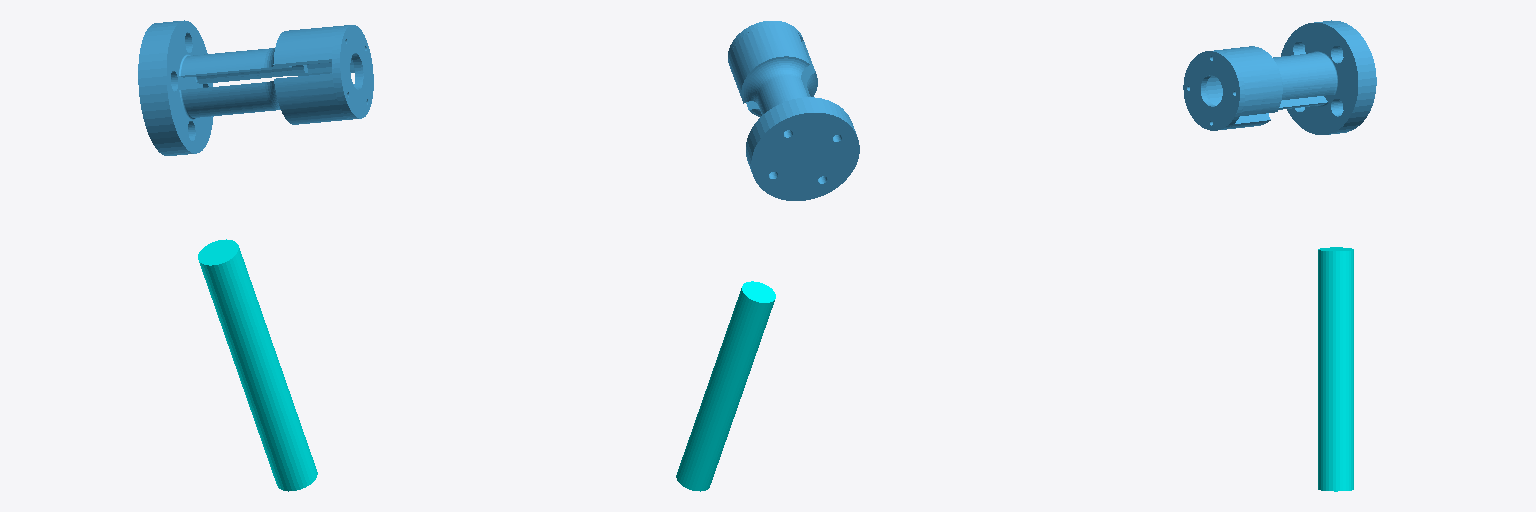
The robot description file, URDF, robot "panda":
<?xml version="1.0" ?>
<!-- =================================================================================== -->
<!-- |    This document was autogenerated by xacro from /opt/ros/kinetic/share/moveit_resources/panda_description/urdf/panda.urdf | -->
<!-- |    EDITING THIS FILE BY HAND IS NOT RECOMMENDED                                 | -->
<!-- =================================================================================== -->
<robot name="panda" xmlns:xacro="http://www.ros.org/wiki/xacro">
    <link name="base_link">
      </link>
    <joint name="base_joint" type="fixed">
        <origin rpy="0 0 0" xyz="0 0 0.0" />
        <parent link="base_link" />
        <child link="panda_link0" />
    </joint>
    <link name="panda_link0">
        <visual>
            <geometry>
                <mesh filename="meshes_cup/visual/link0.dae" />
            </geometry>
        </visual>
        <collision>
            <geometry>
                <mesh filename="meshes_cup/collision/link0.stl" />
            </geometry>
        </collision>
    </link>
    <link name="panda_link1">
        <visual>
            <geometry>
                <mesh filename="meshes_cup/visual/link1.dae" />
            </geometry>
        </visual>
        <collision>
            <geometry>
                <mesh filename="meshes_cup/collision/link1.stl" />
            </geometry>
        </collision>
    </link>
    <joint name="panda_joint1" type="revolute">
        <safety_controller k_position="100.0" k_velocity="40.0" soft_lower_limit="-2.8073" soft_upper_limit="2.8073" />
        <origin rpy="0 0 0" xyz="0 0 0.333" />
        <parent link="panda_link0" />
        <child link="panda_link1" />
        <axis xyz="0 0 1" />
        <limit effort="87" lower="-2.8073" upper="2.8073" velocity="2.3925" />
    </joint>
    <link name="panda_link2">
        <visual>
            <geometry>
                <mesh filename="meshes_cup/visual/link2.dae" />
            </geometry>
        </visual>
        <collision>
            <geometry>
                <mesh filename="meshes_cup/collision/link2.stl" />
            </geometry>
        </collision>
    </link>
    <joint name="panda_joint2" type="revolute">
        <safety_controller k_position="100.0" k_velocity="40.0" soft_lower_limit="-1.7028" soft_upper_limit="1.7028" />
        <origin rpy="-1.57079632679 0 0" xyz="0 0 0" />
        <parent link="panda_link1" />
        <child link="panda_link2" />
        <axis xyz="0 0 1" />
        <limit effort="87" lower="-1.7028" upper="1.7028" velocity="2.3925" />
    </joint>
    <link name="panda_link3">
        <visual>
            <geometry>
                <mesh filename="meshes_cup/visual/link3.dae" />
            </geometry>
        </visual>
        <collision>
            <geometry>
                <mesh filename="meshes_cup/collision/link3.stl" />
            </geometry>
        </collision>
    </link>
    <joint name="panda_joint3" type="revolute">
        <safety_controller k_position="100.0" k_velocity="40.0" soft_lower_limit="-2.8073" soft_upper_limit="2.8073" />
        <origin rpy="1.57079632679 0 0" xyz="0 -0.316 0" />
        <parent link="panda_link2" />
        <child link="panda_link3" />
        <axis xyz="0 0 1" />
        <limit effort="87" lower="-2.8073" upper="2.8073" velocity="2.3925" />
    </joint>
    <link name="panda_link4">
        <visual>
            <geometry>
                <mesh filename="meshes_cup/visual/link4.dae" />
            </geometry>
        </visual>
        <collision>
            <geometry>
                <mesh filename="meshes_cup/collision/link4.stl" />
            </geometry>
        </collision>
    </link>
    <joint name="panda_joint4" type="revolute">
        <safety_controller k_position="100.0" k_velocity="40.0" soft_lower_limit="-3.0018" soft_upper_limit="-0.1298" />
        <origin rpy="1.57079632679 0 0" xyz="0.0825 0 0" />
        <parent link="panda_link3" />
        <child link="panda_link4" />
        <axis xyz="0 0 1" />
        <limit effort="87" lower="-3.0018" upper="-0.1298" velocity="2.3925" />
    </joint>
    <link name="panda_link5">
        <visual>
            <geometry>
                <mesh filename="meshes_cup/visual/link5.dae" />
            </geometry>
        </visual>
        <collision>
            <geometry>
                <mesh filename="meshes_cup/collision/link5.stl" />
            </geometry>
        </collision>
    </link>
    <joint name="panda_joint5" type="revolute">
        <safety_controller k_position="100.0" k_velocity="40.0" soft_lower_limit="-2.8073" soft_upper_limit="2.8073" />
        <origin rpy="-1.57079632679 0 0" xyz="-0.0825 0.384 0" />
        <parent link="panda_link4" />
        <child link="panda_link5" />
        <axis xyz="0 0 1" />
        <limit effort="12" lower="-2.8073" upper="2.8073" velocity="2.8710" />
    </joint>
    <link name="panda_link6">
        <visual>
            <geometry>
                <mesh filename="meshes_cup/visual/link6.dae" />
            </geometry>
        </visual>
        <collision>
            <geometry>
                <mesh filename="meshes_cup/collision/link6.stl" />
            </geometry>
        </collision>
    </link>
    <joint name="panda_joint6" type="revolute">
        <safety_controller k_position="100.0" k_velocity="40.0" soft_lower_limit="0.0775" soft_upper_limit="3.7025" />
        <origin rpy="1.57079632679 0 0" xyz="0 0 0" />
        <parent link="panda_link5" />
        <child link="panda_link6" />
        <axis xyz="0 0 1" />
        <limit effort="12" lower="0.0775" upper="3.7025" velocity="2.8710" />
    </joint>
    <link name="panda_link7">
        <visual>
            <geometry>
                <mesh filename="meshes_cup/visual/link7.dae" />
            </geometry>
        </visual>
        <collision>
            <geometry>
                <mesh filename="meshes_cup/collision/link7.stl" />
            </geometry>
        </collision>
    </link>
    <joint name="panda_joint7" type="revolute">
        <safety_controller k_position="100.0" k_velocity="40.0" soft_lower_limit="-2.8073" soft_upper_limit="2.8073" />
        <origin rpy="1.57079632679 0 0" xyz="0.088 0 0" />
        <parent link="panda_link6" />
        <child link="panda_link7" />
        <axis xyz="0 0 1" />
        <limit effort="12" lower="-2.8073" upper="2.8073" velocity="2.8710" />
    </joint>
    <!-- <link name="panda_link8" />
    <joint name="panda_joint8" type="fixed">
        <origin rpy="0 0 0" xyz="0 0 0.107" />
        <parent link="panda_link7" />
        <child link="panda_link8" />
        <axis xyz="0 0 0" />
    </joint> -->

    <!-- <link name="camera_link"/>
    <joint name="camera_joint" type="fixed">
        <origin rpy="0.0183591 0.0096417 -2.3317167" xyz="0.07247900537625587 -0.015971556564201184 0.035149015963409073"/>
        <parent link="panda_link8"/>
        <child link="camera_link"/>
        <axis xyz="0 0 1"/>
    </joint> -->

    <joint name="gripper_joint" type="fixed">
        <parent link="panda_link7" />
        <child link="gripper" />
        <origin rpy="0 0 -0.785398163397" xyz="0 0 0.107"/>
    </joint>
    <link name="gripper">
        <visual>
            <origin rpy="-1.57 0.0 0.0" xyz="0 0 0.0"/>
            <geometry>
                <mesh filename="meshes_cup/visual/piab_single_cup.dae" />
            </geometry>
        </visual>
        <collision>
            <geometry>
                <mesh filename="meshes_cup/collision/piab_single_cup.stl" />
            </geometry>
        </collision>
    </link>
  
    <joint name="cup_joint" type="fixed">
        <origin rpy="0 0 0" xyz="0 0 0"/>
        <parent link="gripper"/>
        <child link="cup"/>
        <axis xyz="0 0 1"/>
    </joint>
    <link name="cup">
        <visual>
          <origin xyz="0 0 0.195" rpy="0 0 0" />
             <geometry>
               <cylinder radius="0.012" length="0.16"/>
             </geometry>
             <material name="Cyan">
                 <color rgba="0 1.0 1.0 1.0"/>
             </material>
         </visual>
         <collision>
             <origin xyz="0 0 0.195" rpy="0 0 0"/>
             <geometry>
               <cylinder radius="0.012" length="0.16"/>
             </geometry>
         </collision>
    </link>

     <!-- tcp -->
    <joint name="tcp_joint" type="fixed">
        <origin rpy="0 0 0" xyz="0 0 0.275"/>
        <parent link="cup"/>
        <child link="tcp"/>
    </joint>
    <link name="tcp"/>

</robot>

--- Facts derived from the render (not from the file) ---
3 views of the same robot in one strip: view 1: azimuth 30°, elevation 25°; view 2: azimuth 150°, elevation 25°; view 3: azimuth 270°, elevation 25° (orthographic).
Robot: panda — 12 links, 11 joints (7 revolute, 4 fixed); root link base_link; default pose: joints at zero except 2 at the middle of their limits (panda_joint4 = -1.57, panda_joint6 = 1.89).
Links seen in each view (by area): view 1: gripper, cup; view 2: gripper, cup; view 3: gripper, cup.
Boxes of the visible links, <box> form: gripper: <box>138,20,373,155</box>; cup: <box>198,239,317,491</box>; gripper: <box>728,21,859,200</box>; cup: <box>676,281,775,491</box>; gripper: <box>1183,20,1376,134</box>; cup: <box>1318,247,1353,491</box>.
Bounding box of the posed robot: 0.1265 × 0.1279 × 0.3167 m (x, y, z).
1 mesh visuals loaded from 9 distinct referenced files (1 Collada DAE); not drawn: 8 (reference not matched to a file when rendering).